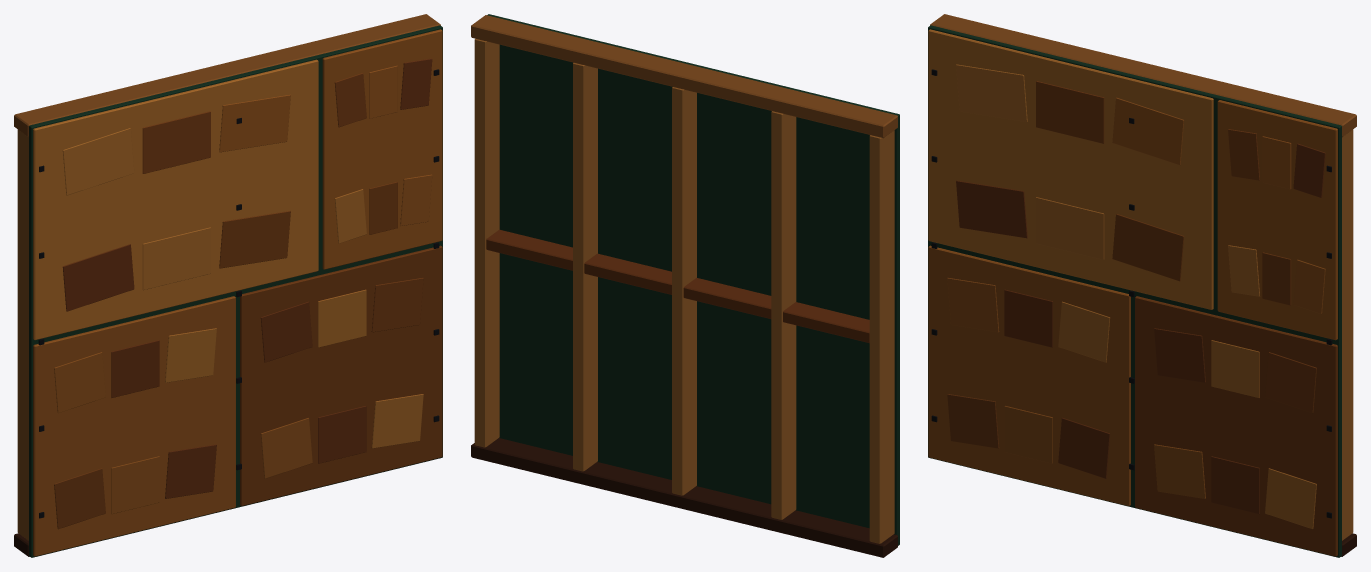
The model's file is mod_osb_sheathing_panel_2x2m.glb.
The picture shows the model from 3 angles, left to right: view 1: azimuth 30°, elevation 25°; view 2: azimuth 150°, elevation 25°; view 3: azimuth 330°, elevation 25°; orthographic projection.
Parts seen in each view (by area): view 1: Mod_Osb_Sheathing_Panel_2x2m; view 2: Mod_Osb_Sheathing_Panel_2x2m; view 3: Mod_Osb_Sheathing_Panel_2x2m.
Boxes of the visible parts, bbox=[...] form: Mod_Osb_Sheathing_Panel_2x2m: bbox=[14, 14, 442, 557]; Mod_Osb_Sheathing_Panel_2x2m: bbox=[471, 14, 899, 557]; Mod_Osb_Sheathing_Panel_2x2m: bbox=[928, 14, 1356, 557].
Size of the model in its own units: 2 by 2 by 0.162.
